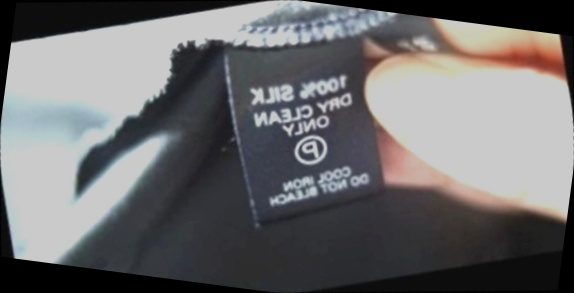dry_clean_any_solvent_except_trichloroethylene: (279, 119, 341, 180)
